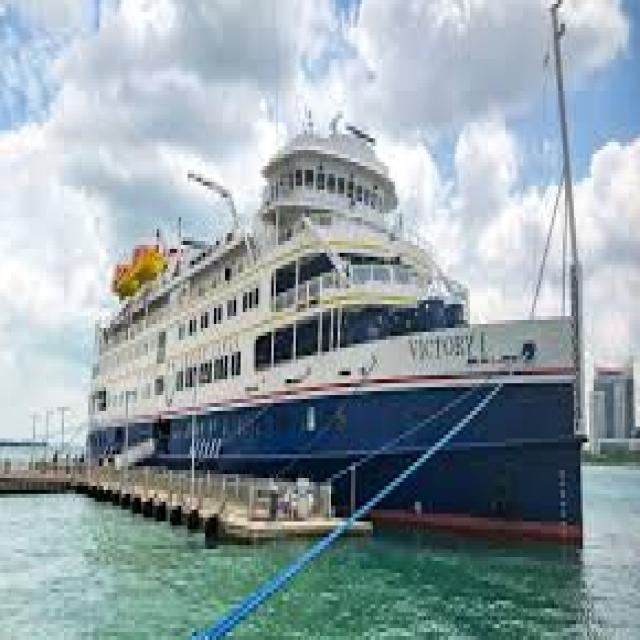passenger ship: (78, 118, 602, 548)
